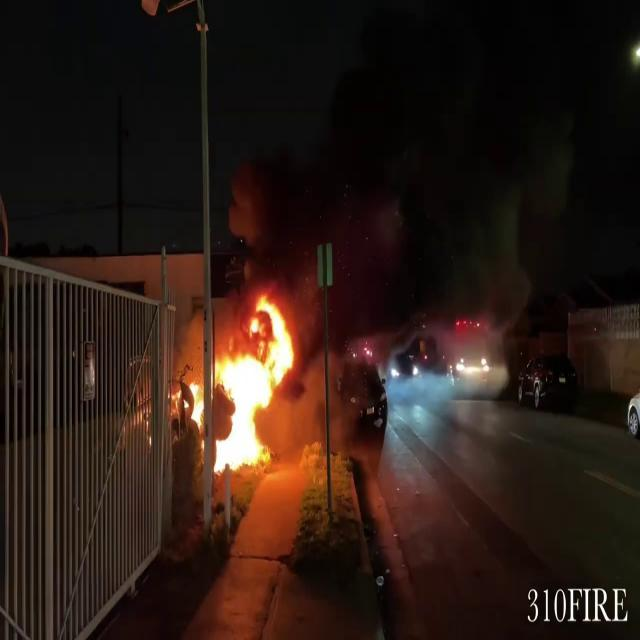Fire: (177, 292, 301, 478)
